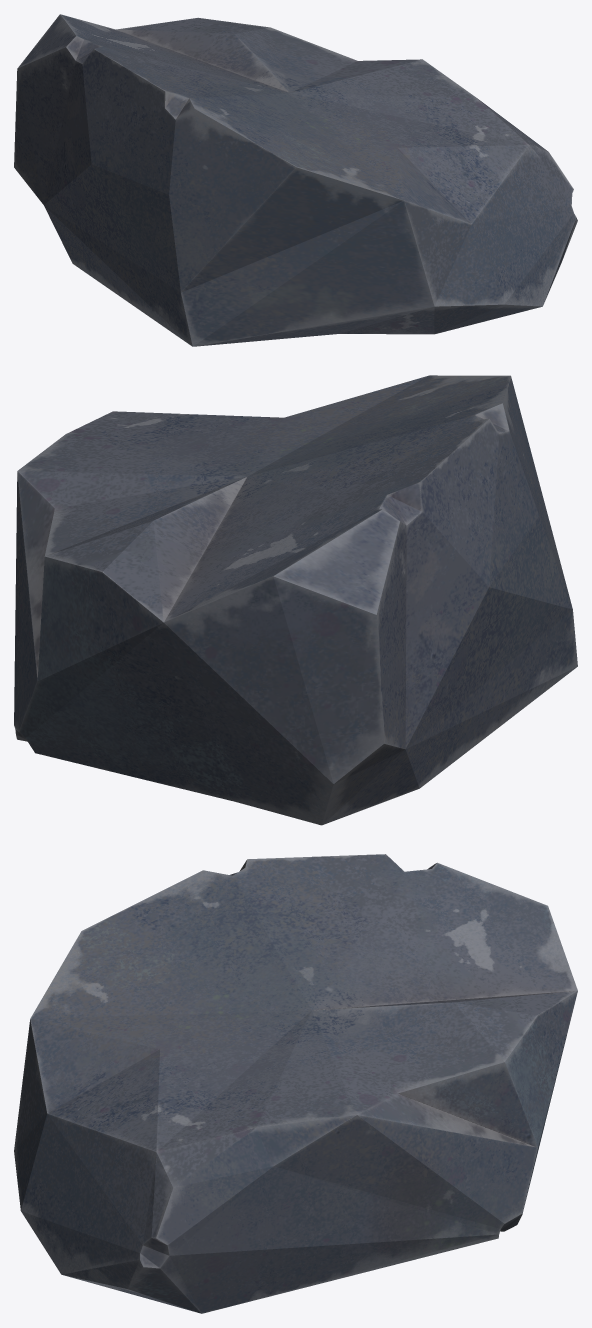
File: rock6.glb
The picture shows the model from 3 angles, top to bottom: view 1: azimuth 30°, elevation 25°; view 2: azimuth 150°, elevation 25°; view 3: azimuth 270°, elevation 25°; orthographic projection. The views are drawn at different scales.
Visible parts, largest first — view 1: Object_70; view 2: Object_70; view 3: Object_70.
Part boxes in pixels (bbox=[...]): Object_70: bbox=[14, 14, 577, 346]; Object_70: bbox=[14, 375, 577, 825]; Object_70: bbox=[14, 854, 577, 1313].
Bounding box in the file's own units: 10.21 × 6.17 × 10.98.
Materials: 1 (1 with a texture image).
